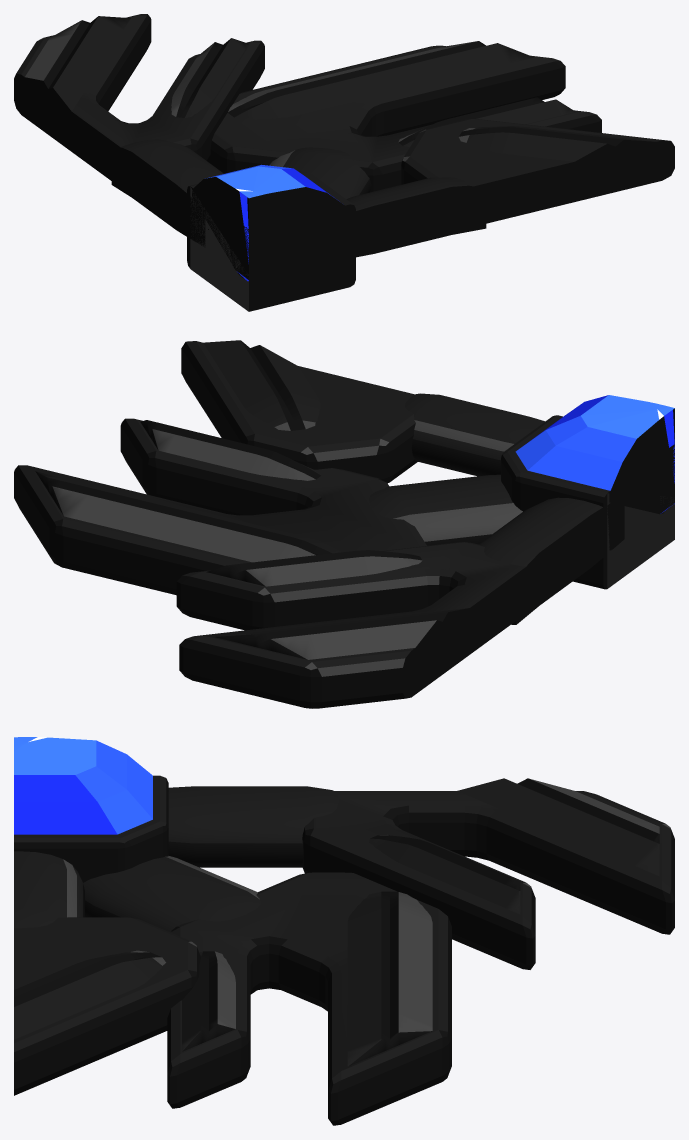
File: dark_saw_235.glb
3 renders of one model, top to bottom at view 1: azimuth 30°, elevation 25°; view 2: azimuth 150°, elevation 25°; view 3: azimuth 270°, elevation 25°, orthographic. The views are drawn at different scales.
Parts seen in each view (by area): view 1: dark_saw_235_under0_plate, dark_saw_235_arm1_plate, dark_saw_235_arm0_plate, dark_saw_235_gem_bezel, dark_saw_235_gem, dark_saw_235_under0_ridge0, dark_saw_235_arm1_rod, dark_saw_235_arm0_rod, dark_saw_235_arm0_ridge0, dark_saw_235_arm1_ridge0, dark_saw_235_arm0_ridge1, dark_saw_235_under0_rod (+1 smaller); view 2: dark_saw_235_arm0_plate, dark_saw_235_under0_plate, dark_saw_235_arm1_plate, dark_saw_235_gem, dark_saw_235_under0_ridge0, dark_saw_235_arm0_rod, dark_saw_235_gem_bezel, dark_saw_235_arm1_rod, dark_saw_235_under0_rod, dark_saw_235_arm0_ridge0, dark_saw_235_arm1_ridge0, dark_saw_235_arm0_ridge1 (+1 smaller); view 3: dark_saw_235_under0_plate, dark_saw_235_arm0_plate, dark_saw_235_arm1_plate, dark_saw_235_under0_ridge0, dark_saw_235_gem, dark_saw_235_arm0_rod, dark_saw_235_under0_rod, dark_saw_235_arm0_ridge0, dark_saw_235_arm1_ridge0, dark_saw_235_gem_bezel, dark_saw_235_arm1_rod, dark_saw_235_arm0_ridge1 (+1 smaller).
Boxes of the visible parts, x1,y1,x2,y2 form: dark_saw_235_under0_plate: [207, 45, 601, 192]; dark_saw_235_arm1_plate: [401, 119, 674, 230]; dark_saw_235_arm0_plate: [14, 14, 264, 193]; dark_saw_235_gem_bezel: [187, 171, 355, 311]; dark_saw_235_gem: [192, 164, 347, 281]; dark_saw_235_under0_ridge0: [227, 41, 534, 119]; dark_saw_235_arm1_rod: [324, 177, 486, 262]; dark_saw_235_arm0_rod: [111, 139, 223, 247]; dark_saw_235_arm0_ridge0: [20, 16, 130, 121]; dark_saw_235_arm1_ridge0: [459, 126, 664, 170]; dark_saw_235_arm0_ridge1: [171, 38, 248, 117]; dark_saw_235_under0_rod: [269, 147, 371, 198]; dark_saw_235_arm0_plate: [176, 542, 540, 708]; dark_saw_235_under0_plate: [14, 418, 426, 595]; dark_saw_235_arm1_plate: [181, 341, 417, 483]; dark_saw_235_gem: [515, 395, 674, 514]; dark_saw_235_under0_ridge0: [35, 471, 341, 562]; dark_saw_235_arm0_rod: [478, 495, 624, 624]; dark_saw_235_gem_bezel: [501, 415, 674, 589]; dark_saw_235_arm1_rod: [405, 393, 544, 476]; dark_saw_235_under0_rod: [369, 474, 522, 545]; dark_saw_235_arm0_ridge0: [215, 607, 474, 659]; dark_saw_235_arm1_ridge0: [203, 340, 320, 430]; dark_saw_235_arm0_ridge1: [206, 550, 422, 586]; dark_saw_235_under0_plate: [167, 872, 451, 1125]; dark_saw_235_arm0_plate: [302, 791, 674, 969]; dark_saw_235_arm1_plate: [14, 917, 200, 1095]; dark_saw_235_under0_ridge0: [347, 891, 432, 1066]; dark_saw_235_gem: [14, 737, 152, 834]; dark_saw_235_arm0_rod: [168, 786, 338, 867]; dark_saw_235_under0_rod: [83, 856, 260, 932]; dark_saw_235_arm0_ridge0: [457, 778, 659, 876]; dark_saw_235_arm1_ridge0: [14, 950, 165, 1039]; dark_saw_235_gem_bezel: [14, 775, 168, 882]; dark_saw_235_arm1_rod: [14, 851, 84, 928]; dark_saw_235_arm0_ridge1: [369, 835, 520, 914].
Size of the model in its own units: 22.97 by 5.66 by 23.7.
